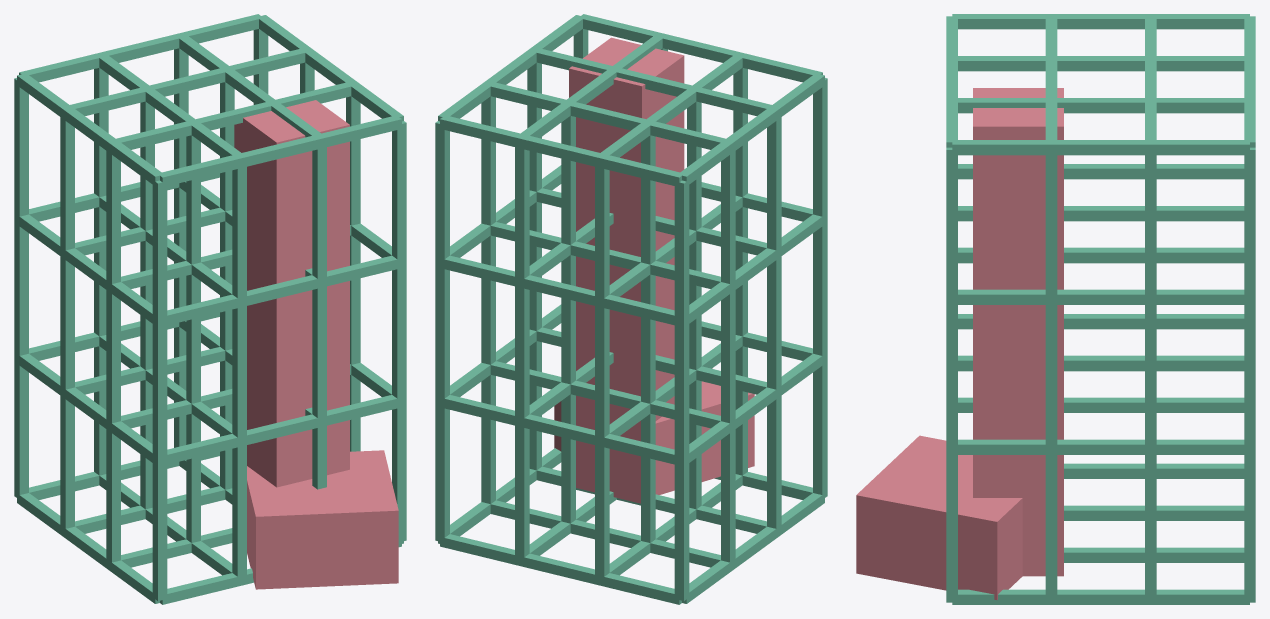
Rendered from folie_tag_113.glb.
3 renders of one model, left to right at view 1: azimuth 30°, elevation 25°; view 2: azimuth 150°, elevation 25°; view 3: azimuth 270°, elevation 25°, orthographic. The views are drawn at different scales.
Visible parts, largest first — view 1: folie_tag_113_00_cage, folie_tag_113_core, folie_tag_113_01_block; view 2: folie_tag_113_00_cage, folie_tag_113_core, folie_tag_113_01_block; view 3: folie_tag_113_00_cage, folie_tag_113_core, folie_tag_113_01_block.
Boxes of the visible parts, x1,y1,x2,y2 form: folie_tag_113_00_cage: (14,14,406,604); folie_tag_113_core: (234,100,349,487); folie_tag_113_01_block: (247,450,398,589); folie_tag_113_00_cage: (435,14,827,604); folie_tag_113_core: (569,37,684,503); folie_tag_113_01_block: (554,368,754,494); folie_tag_113_00_cage: (946,14,1255,604); folie_tag_113_core: (973,88,1063,576); folie_tag_113_01_block: (856,435,1022,599).
Bounding box in the file's own units: 3.76 × 6.14 × 4.83.
